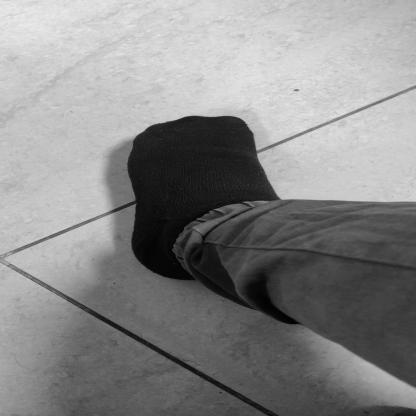ankle: (191, 232, 203, 237)
heel: (168, 272, 176, 276)
left_foot: (129, 117, 272, 281)
pinky: (143, 140, 150, 144)
toe: (232, 120, 240, 124)
